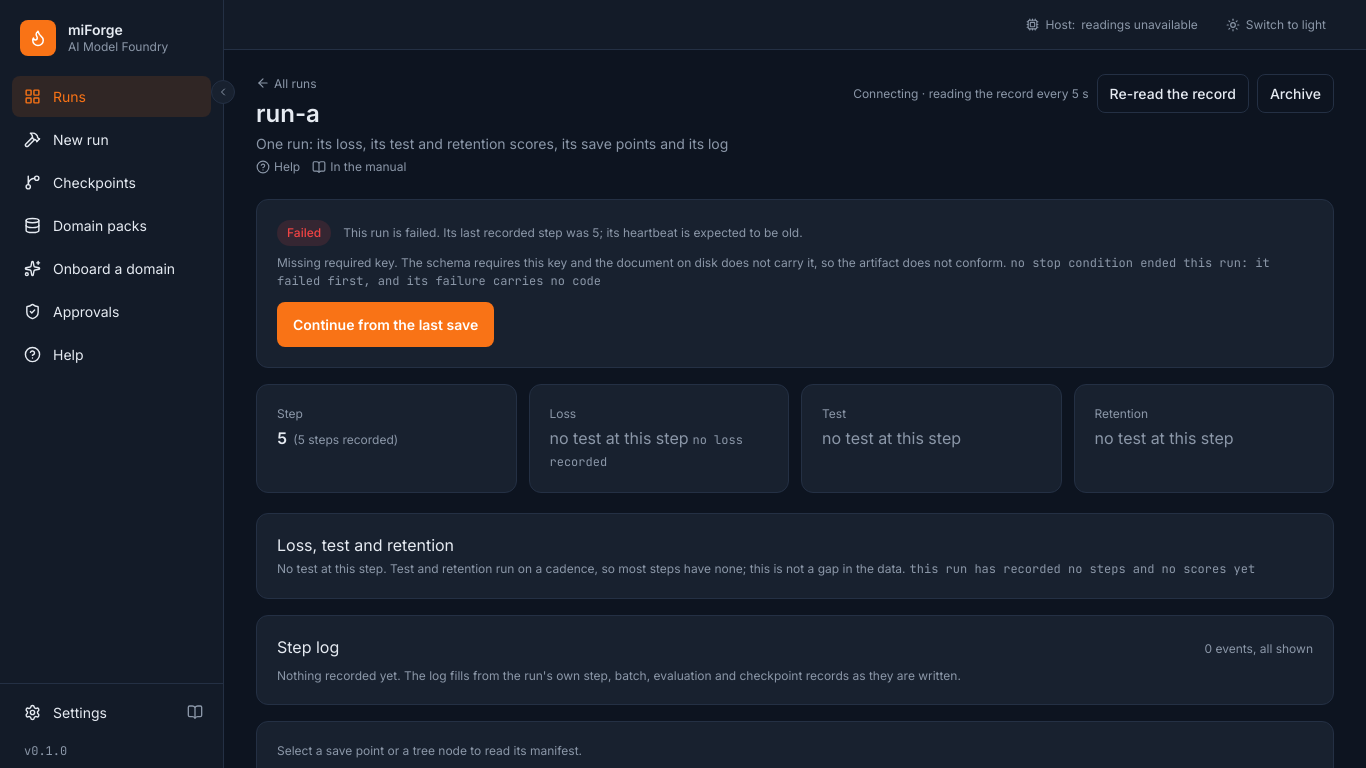
it: [ContinueRun] › should submit a continue for an attached run that failed
Click the button "Continue from the last save": {"x": 386, "y": 325} x1=277 y1=302 x2=494 y2=348
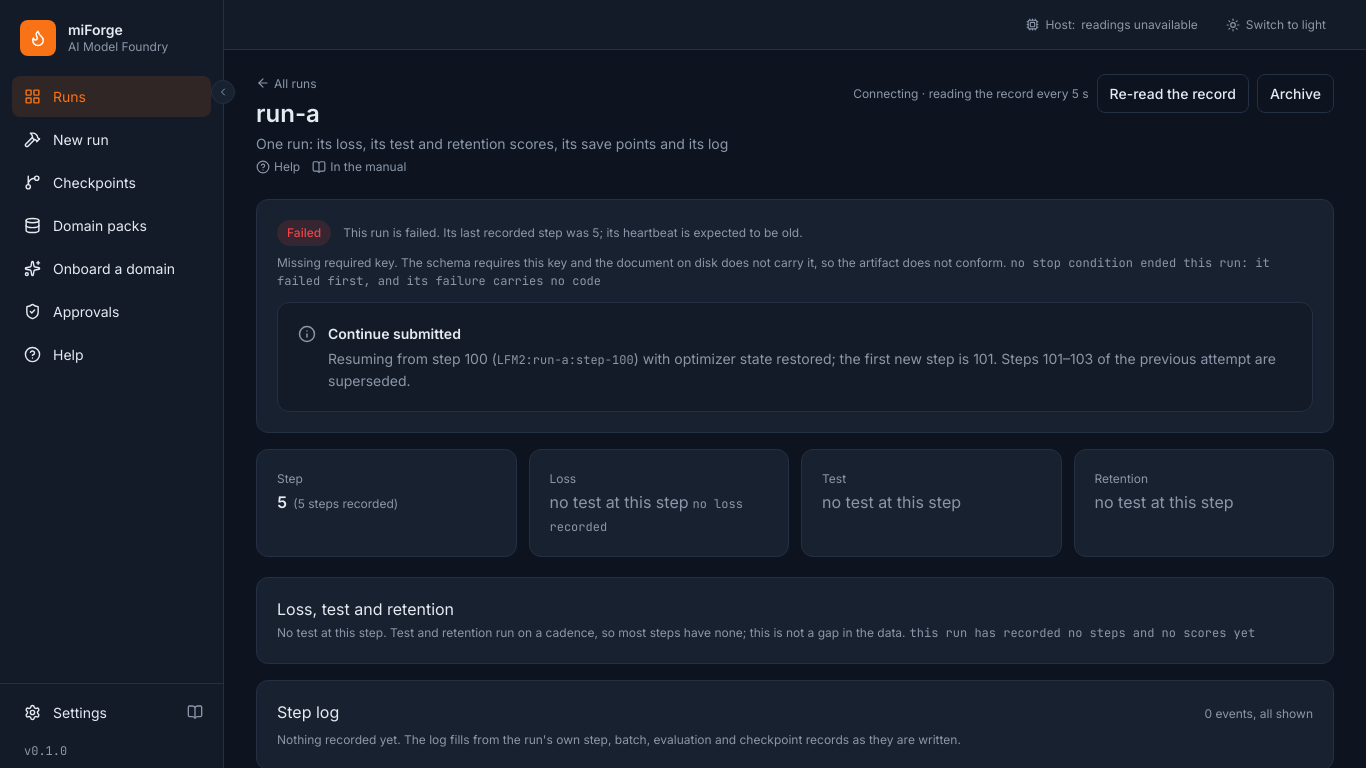
Check: the element with test id "continue-submitted" is shown, box x1=277 y1=302 x2=1313 y2=412
Check: the element with test id "continue-submitted" shows "Steps 101–103 of the previous attempt are superseded", box x1=328 y1=350 x2=1276 y2=389
